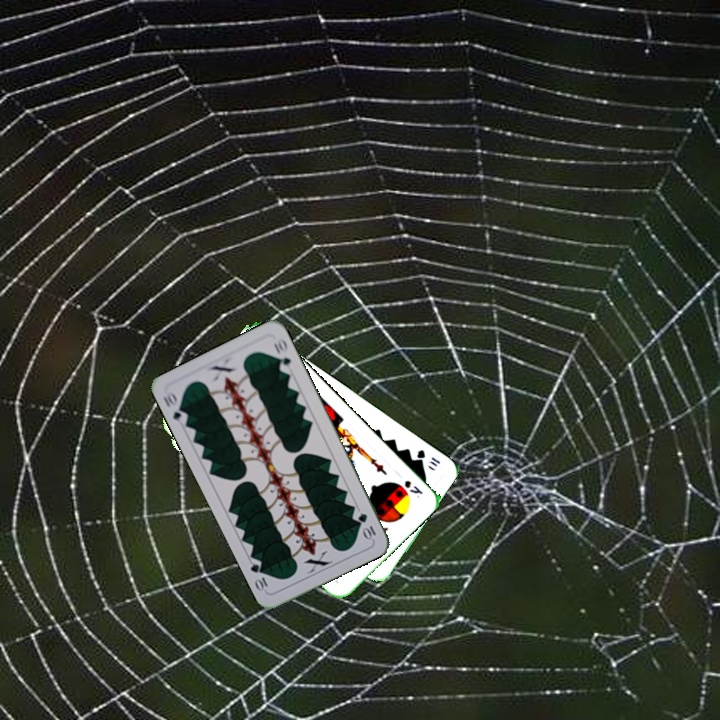G10: (159, 389, 191, 427), (354, 509, 378, 542), (412, 445, 443, 469)
SK: (400, 476, 425, 501)
